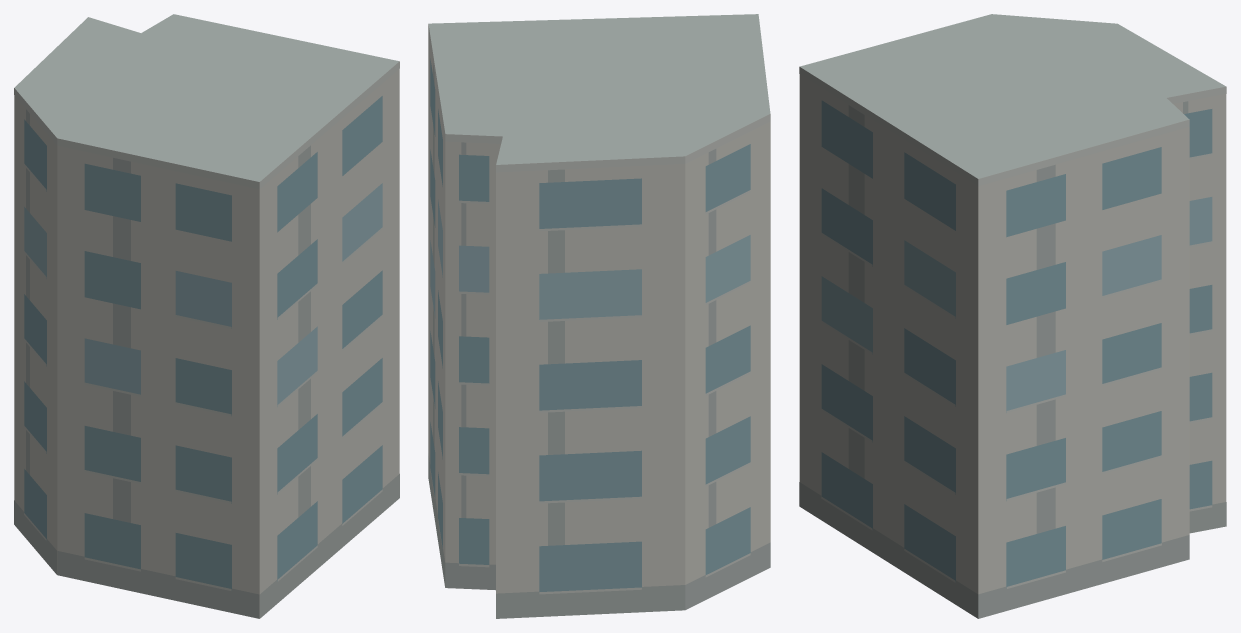
The model's file is residential-05ede1e4-a7b1-42b8-a716-69133f41fb6a.glb.
3 views of the same model, side by side, from view 1: azimuth 30°, elevation 25°; view 2: azimuth 150°, elevation 25°; view 3: azimuth 270°, elevation 25° (orthographic). The views are drawn at different scales.
Visible parts, largest first — view 1: residential-05ede1e4-a7b1-42b8-a716-69133f41fb6a.tmp; view 2: residential-05ede1e4-a7b1-42b8-a716-69133f41fb6a.tmp; view 3: residential-05ede1e4-a7b1-42b8-a716-69133f41fb6a.tmp.
Part boxes in pixels (box(x1,y1,x2,y2)): residential-05ede1e4-a7b1-42b8-a716-69133f41fb6a.tmp: box(14, 14, 399, 618); residential-05ede1e4-a7b1-42b8-a716-69133f41fb6a.tmp: box(428, 14, 770, 618); residential-05ede1e4-a7b1-42b8-a716-69133f41fb6a.tmp: box(799, 14, 1226, 618).
Size of the model in its own units: 11.68 by 14.5 by 12.77.
